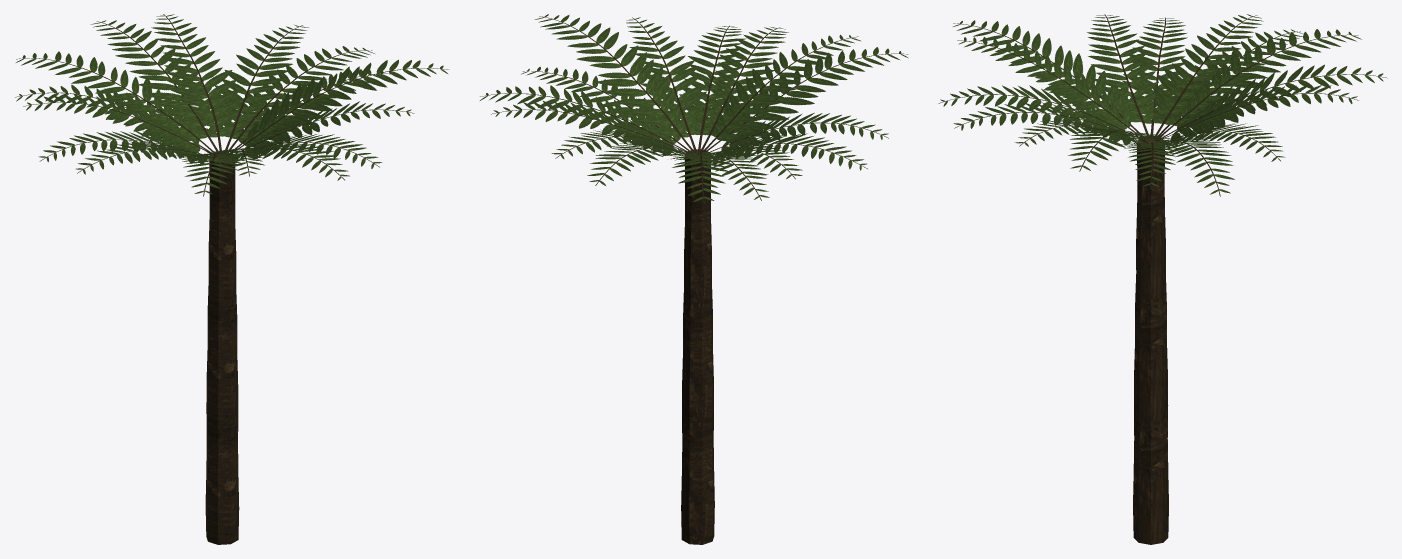
Rendered from tree_fern_v01_LOD1.fbx.
3 views of the same model, side by side, from view 1: azimuth 30°, elevation 25°; view 2: azimuth 150°, elevation 25°; view 3: azimuth 270°, elevation 25° (orthographic). The views are drawn at different scales.
Visible parts, largest first — view 1: tree_fern_v01_LOD1; view 2: tree_fern_v01_LOD1; view 3: tree_fern_v01_LOD1.
Boxes of the visible parts, x1,y1,x2,y2 form: tree_fern_v01_LOD1: (15, 14, 449, 544); tree_fern_v01_LOD1: (480, 14, 908, 544); tree_fern_v01_LOD1: (938, 14, 1387, 544).
Size of the model in its own units: 274 by 320 by 278.
2 materials, 2 textured.
